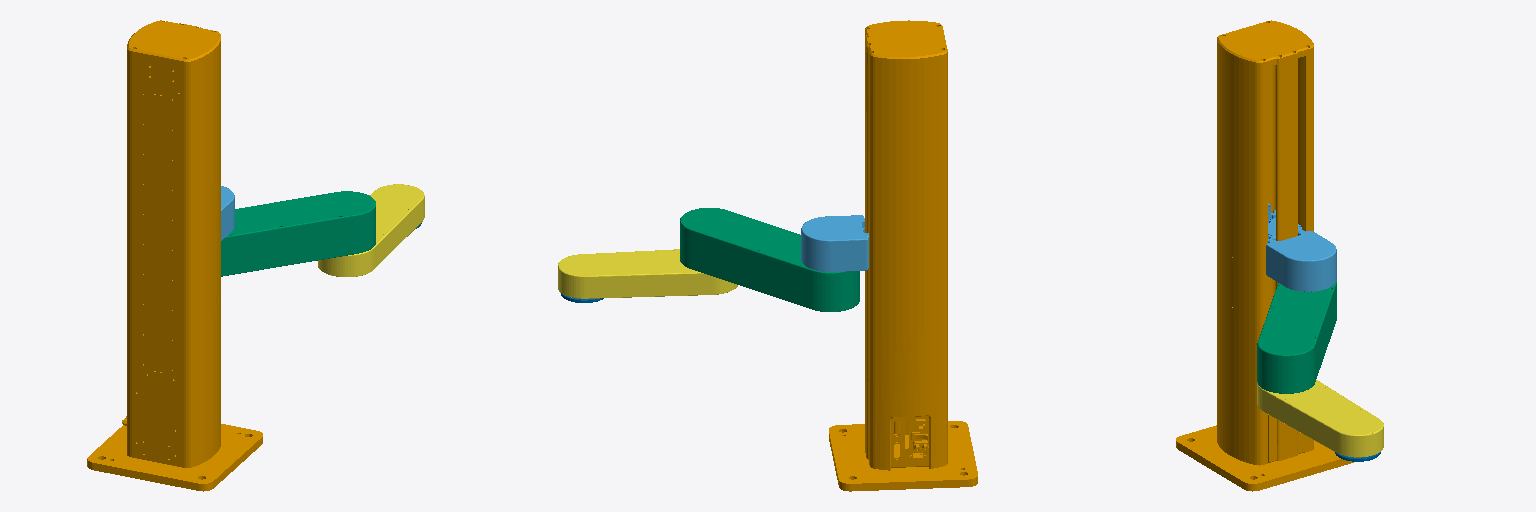
The robot description file, URDF, robot "robot32":
<?xml version="1.0" ?>
<!-- =================================================================================== -->
<!-- |    This document was autogenerated by xacro from [local-path]\Downloads\RobotArmURDF\robot32_description\urdf\robot32_for_pybullet.xacro | -->
<!-- |    EDITING THIS FILE BY HAND IS NOT RECOMMENDED                                 | -->
<!-- =================================================================================== -->
<robot name="robot32" xmlns:xacro="http://www.ros.org/wiki/xacro">
  <link name="base_link">
    <inertial>
      <origin rpy="0 0 0" xyz="-0.014465423320095172 -0.011835969483502575 0.33861911769152025"/>
      <mass value="34.438626146403976"/>
      <inertia ixx="2.571226" ixy="0.001878" ixz="0.04669" iyy="2.571398" iyz="0.032207" izz="0.223156"/>
    </inertial>
    <visual>
      <origin rpy="0 0 0" xyz="0 0 0"/>
      <geometry>
        <mesh filename="package://robot32_description/meshes/base_link.stl" scale="0.001 0.001 0.001"/>
      </geometry>
      <material name="silver"/>
    </visual>
    <collision>
      <origin rpy="0 0 0" xyz="0 0 0"/>
      <geometry>
        <mesh filename="package://robot32_description/meshes/base_link.stl" scale="0.001 0.001 0.001"/>
      </geometry>
    </collision>
  </link>
  <link name="shoulder_link_1">
    <inertial>
      <origin rpy="0 0 0" xyz="0.13133764717788565 0.09177246137939866 -0.4093979685027963"/>
      <mass value="8.626417815320053"/>
      <inertia ixx="0.023454" ixy="-0.013875" ixz="-0.001499" iyy="0.033252" iyz="-0.001158" izz="0.045968"/>
    </inertial>
    <visual>
      <origin rpy="0 0 0" xyz="0.058979 0.041298 -0.83"/>
      <geometry>
        <mesh filename="package://robot32_description/meshes/shoulder_link_1.stl" scale="0.001 0.001 0.001"/>
      </geometry>
      <material name="silver"/>
    </visual>
    <collision>
      <origin rpy="0 0 0" xyz="0.058979 0.041298 -0.83"/>
      <geometry>
        <mesh filename="package://robot32_description/meshes/shoulder_link_1.stl" scale="0.001 0.001 0.001"/>
      </geometry>
    </collision>
  </link>
  <link name="elbow_link_1">
    <inertial>
      <origin rpy="0 0 0" xyz="0.14489768094391825 -0.01990323140936625 -0.010112140605986752"/>
      <mass value="22.357030788873505"/>
      <inertia ixx="0.035426" ixy="0.030284" ixz="-0.004412" iyy="0.238613" iyz="0.000649" izz="0.251981"/>
    </inertial>
    <visual>
      <origin rpy="0 0 0" xyz="-0.105556 -0.074155 -0.368226"/>
      <geometry>
        <mesh filename="package://robot32_description/meshes/elbow_link_1.stl" scale="0.001 0.001 0.001"/>
      </geometry>
      <material name="silver"/>
    </visual>
    <collision>
      <origin rpy="0 0 0" xyz="-0.105556 -0.074155 -0.368226"/>
      <geometry>
        <mesh filename="package://robot32_description/meshes/elbow_link_1.stl" scale="0.001 0.001 0.001"/>
      </geometry>
    </collision>
  </link>
  <link name="wrist_link_1">
    <inertial>
      <origin rpy="0 0 0" xyz="0.09128606520399923 0.06485282195981397 -0.024831970970250528"/>
      <mass value="10.544145312153212"/>
      <inertia ixx="0.034703" ixy="-0.034425" ixz="-0.000418" iyy="0.058357" iyz="-0.000295" izz="0.089602"/>
    </inertial>
    <visual>
      <origin rpy="0 0 0" xyz="-0.377673 -0.03444 -0.321726"/>
      <geometry>
        <mesh filename="package://robot32_description/meshes/wrist_link_1.stl" scale="0.001 0.001 0.001"/>
      </geometry>
      <material name="silver"/>
    </visual>
    <collision>
      <origin rpy="0 0 0" xyz="-0.377673 -0.03444 -0.321726"/>
      <geometry>
        <mesh filename="package://robot32_description/meshes/wrist_link_1.stl" scale="0.001 0.001 0.001"/>
      </geometry>
    </collision>
  </link>
  <link name="end_link_1">
    <inertial>
      <origin rpy="0 0 0" xyz="0.002100189659331675 0.0009940682583014226 -0.004675279556193734"/>
      <mass value="0.34955592300531374"/>
      <inertia ixx="0.000146" ixy="0.0" ixz="1e-06" iyy="0.000144" iyz="0.0" izz="0.000257"/>
    </inertial>
    <visual>
      <origin rpy="0 0 0" xyz="-0.560829 -0.165127 -0.276226"/>
      <geometry>
        <mesh filename="package://robot32_description/meshes/end_link_1.stl" scale="0.001 0.001 0.001"/>
      </geometry>
      <material name="silver"/>
    </visual>
    <collision>
      <origin rpy="0 0 0" xyz="-0.560829 -0.165127 -0.276226"/>
      <geometry>
        <mesh filename="package://robot32_description/meshes/end_link_1.stl" scale="0.001 0.001 0.001"/>
      </geometry>
    </collision>
  </link>
  <joint name="base_to_shoulder_joint" type="prismatic">
    <origin rpy="0 0 0" xyz="-0.058979 -0.041298 0.83"/>
    <parent link="base_link"/>
    <child link="shoulder_link_1"/>
    <axis xyz="0.0 0.0 1.0"/>
    <limit effort="100" lower="-0.223" upper="0.345" velocity="100"/>
  </joint>
  <joint name="shoulder_to_elbow_joint" type="revolute">
    <origin rpy="0 0 0" xyz="0.164535 0.115453 -0.461774"/>
    <parent link="shoulder_link_1"/>
    <child link="elbow_link_1"/>
    <axis xyz="0.0 0.0 -1.0"/>
    <limit effort="100" lower="-2.478368" upper="0.977384" velocity="100"/>
  </joint>
  <joint name="elbow_to_wrist_joint" type="revolute">
    <origin rpy="0 0 0" xyz="0.272117 -0.039715 -0.0465"/>
    <parent link="elbow_link_1"/>
    <child link="wrist_link_1"/>
    <axis xyz="0.0 0.0 -1.0"/>
    <limit effort="100" lower="0.0" upper="6.283185" velocity="100"/>
  </joint>
  <joint name="wrist_to_end_joint" type="revolute">
    <origin rpy="0 0 0" xyz="0.183156 0.130687 -0.0455"/>
    <parent link="wrist_link_1"/>
    <child link="end_link_1"/>
    <axis xyz="0.0 0.0 -1.0"/>
    <limit effort="100" lower="0.0" upper="6.283185" velocity="100"/>
  </joint>
</robot>

--- What the picture shows (computed from the rendered views, not written in the file) ---
The picture shows the robot from 3 angles, left to right: view 1: azimuth 30°, elevation 25°; view 2: azimuth 150°, elevation 25°; view 3: azimuth 270°, elevation 25°; orthographic projection.
Model robot32 with 5 links and 4 joints (3 revolute, 1 prismatic), rooted at base_link, posed all joints at 0.
Links seen in each view (by area): view 1: base_link, elbow_link_1, wrist_link_1, shoulder_link_1; view 2: base_link, elbow_link_1, wrist_link_1, shoulder_link_1; view 3: base_link, elbow_link_1, wrist_link_1, shoulder_link_1.
Boxes of the visible links, left/top/right/bottom form: base_link: left=87, top=20, right=262, bottom=491; elbow_link_1: left=221, top=191, right=375, bottom=276; wrist_link_1: left=318, top=184, right=424, bottom=276; shoulder_link_1: left=221, top=186, right=234, bottom=240; base_link: left=829, top=20, right=977, bottom=491; elbow_link_1: left=680, top=208, right=859, bottom=311; wrist_link_1: left=558, top=249, right=737, bottom=298; shoulder_link_1: left=801, top=215, right=868, bottom=271; base_link: left=1176, top=20, right=1353, bottom=491; elbow_link_1: left=1257, top=280, right=1336, bottom=393; wrist_link_1: left=1257, top=380, right=1383, bottom=457; shoulder_link_1: left=1266, top=203, right=1336, bottom=291.
Size in the robot's own frame: 0.7762 by 0.3798 by 0.83 metres.
Meshes: 5 distinct files referenced, 5 mesh visuals loaded (5 binary STL).